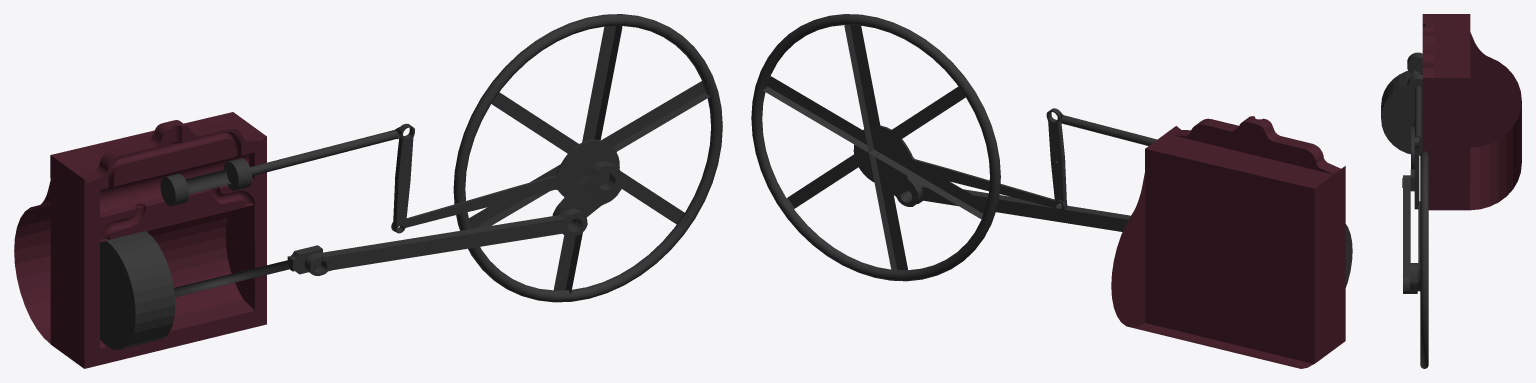
Rendered from ai-model-cursach-2.fbx.
3 renders of one model, left to right at view 1: azimuth 30°, elevation 25°; view 2: azimuth 150°, elevation 25°; view 3: azimuth 270°, elevation 25°, orthographic. The views are drawn at different scales.
Visible parts, largest first — view 1: cylinder, flywheel, big-piston, Cube.001, Cylinder.002, small-piston.003, Cube.002, Cube.003, small-piston.004; view 2: cylinder, flywheel, Cube.001, Cylinder.002, Cube.003, small-piston.004, Cube.002; view 3: cylinder, big-piston, flywheel, Cube.001, small-piston.003, Cube.003, small-piston.004, Cube.002, Cylinder.002.
Boxes of the visible parts, box(x1,y1,x2,y2) form: cylinder: box(14, 112, 266, 368); flywheel: box(453, 14, 722, 302); big-piston: box(100, 231, 322, 350); Cube.001: box(304, 208, 587, 275); Cylinder.002: box(391, 139, 619, 231); small-piston.003: box(160, 158, 252, 206); Cube.002: box(552, 161, 623, 228); Cube.003: box(393, 123, 414, 233); small-piston.004: box(250, 125, 403, 175); cylinder: box(1111, 116, 1345, 368); flywheel: box(751, 14, 1000, 281); Cube.001: box(904, 183, 1130, 231); Cylinder.002: box(853, 125, 1065, 210); Cube.003: box(1046, 108, 1067, 207); small-piston.004: box(1056, 112, 1157, 145); Cube.002: box(892, 176, 922, 206); cylinder: box(1422, 14, 1521, 210); big-piston: box(1381, 71, 1422, 191); flywheel: box(1420, 151, 1428, 368); Cube.001: box(1402, 175, 1410, 293); small-piston.003: box(1407, 52, 1422, 97); Cube.003: box(1414, 137, 1419, 209); small-piston.004: box(1415, 86, 1421, 141); Cube.002: box(1409, 263, 1418, 293); Cylinder.002: box(1418, 201, 1420, 291).
Bounding box in the file's own units: 140 × 58.81 × 38.
